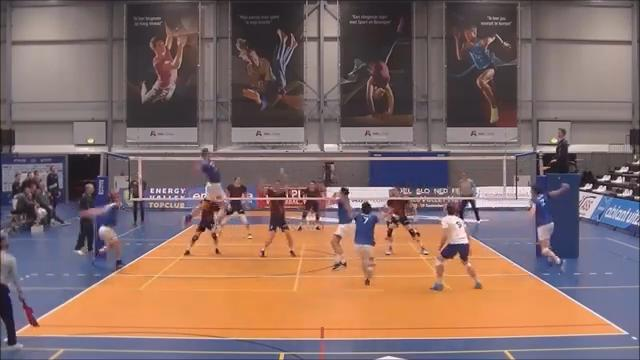attacco: (184, 144, 228, 235)
